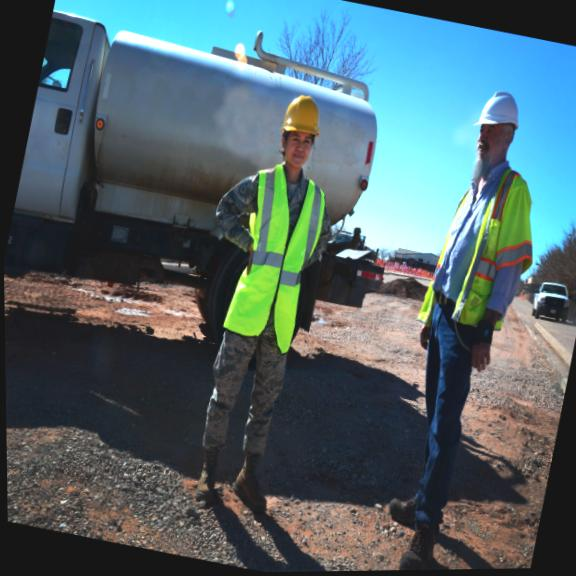safety_vest: (407, 147, 543, 349), (213, 156, 335, 349)
